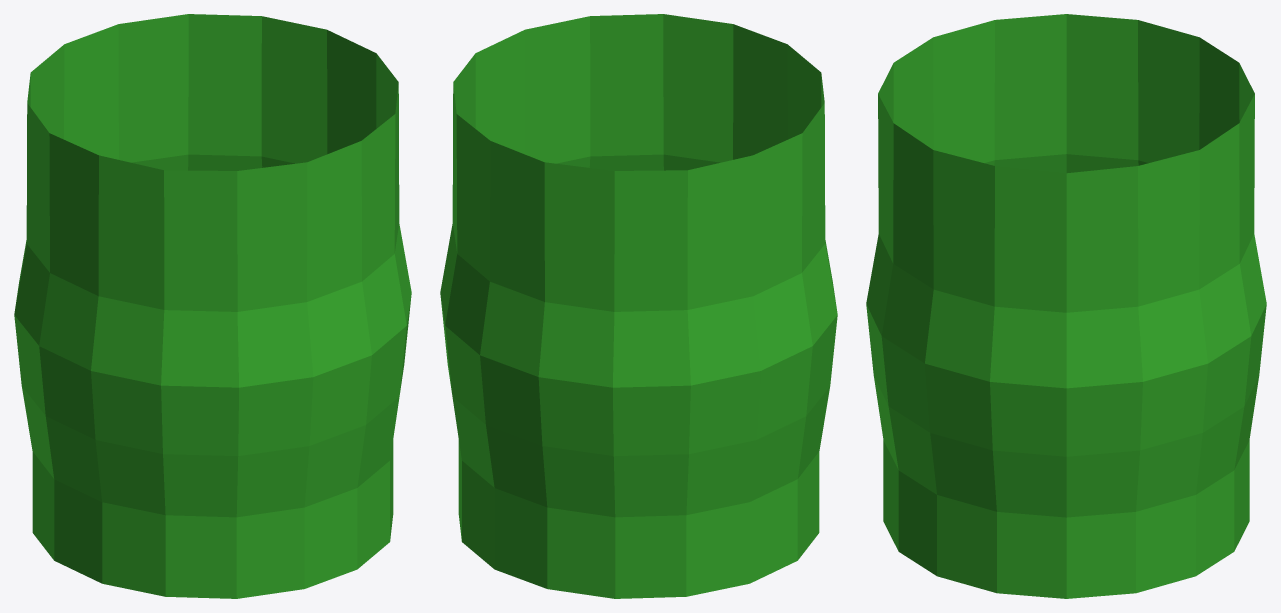
The model's file is cactus_core.fbx.
3 renders of one model, left to right at view 1: azimuth 30°, elevation 25°; view 2: azimuth 150°, elevation 25°; view 3: azimuth 270°, elevation 25°, orthographic.
Visible parts, largest first — view 1: cactus_core; view 2: cactus_core; view 3: cactus_core.
Part boxes in pixels (left/top/right/bottom): cactus_core: left=14, top=14, right=411, bottom=598; cactus_core: left=440, top=14, right=837, bottom=598; cactus_core: left=866, top=14, right=1266, bottom=598.
Bounding box in the file's own units: 178 × 211 × 178.
